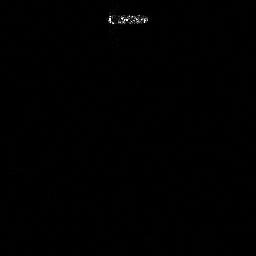ship: (107, 14, 149, 24)
